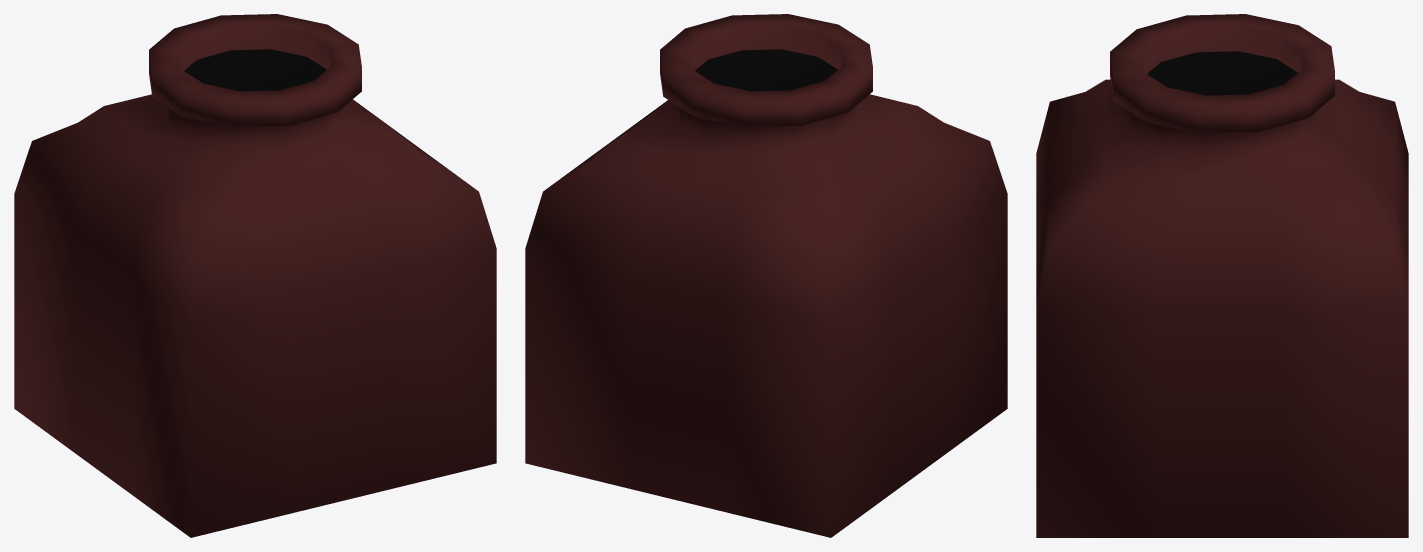
File: QuillAndInk.004.glb
3 views of the same model, side by side, from view 1: azimuth 30°, elevation 25°; view 2: azimuth 150°, elevation 25°; view 3: azimuth 270°, elevation 25° (orthographic). The views are drawn at different scales.
Visible parts, largest first — view 1: QuillAndInk.004; view 2: QuillAndInk.004; view 3: QuillAndInk.004.
Part boxes in pixels (x1,y1,x2,y2): QuillAndInk.004: (14,14,496,537); QuillAndInk.004: (525,14,1007,537); QuillAndInk.004: (1036,14,1408,537).
Size of the model in its own units: 0.0669 by 0.0788 by 0.0669.
Materials: 1 (1 with a texture image).
